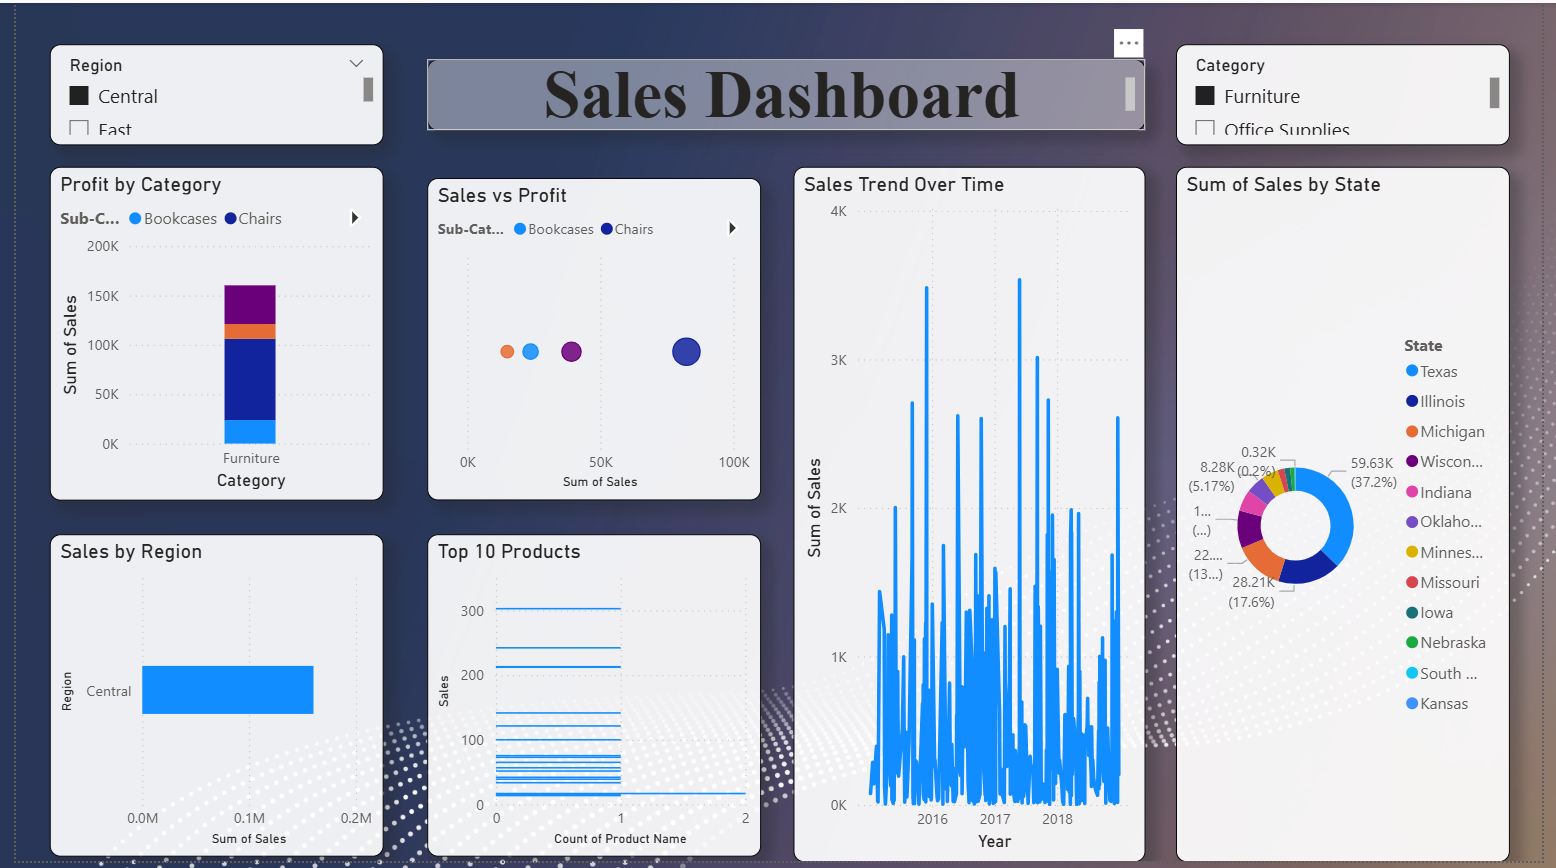

The page's visual inventory and layout, read from the dashboard file:
{"tool":"powerbi","page":{"name":"Page 1","canvas":[1280,720],"ordinal":0},"visuals":[{"type":"barChart","title":"Sales by Region","fields":{"Y":["Sum(train.Sales)"],"Category":["train.Region"]},"box":[28.8,446,279.9,270.3],"z":0},{"type":"columnChart","title":" Profit by Category","fields":{"Series":["train.Sub-Category"],"Category":["train.Category"],"Y":["Sum(train.Sales)"]},"box":[28.8,137.2,279.9,279.9],"z":1000},{"type":"lineChart","title":" Sales Trend Over Time","fields":{"Y":["Sum(train.Sales)"],"Category":["train.Order Date.Variation.Date Hierarchy.Year","train.Order Date.Variation.Date Hierarchy.Quarter","train.Order Date.Variation.Date Hierarchy.Month","train.Order Date.Variation.Date Hierarchy.Day"]},"box":[651.8,137.2,295,583.2],"z":2000},{"type":"barChart","title":"Top 10 Products","fields":{"Y":["CountNonNull(train.Product Name)"],"Category":["train.Sales"]},"box":[344.4,446,279.9,270.3],"z":3000},{"type":"scatterChart","title":"Sales vs Profit","fields":{"X":["Sum(train.Sales)"],"Size":["Sum(train.Sales)"],"Series":["train.Sub-Category"]},"box":[344.4,146.8,279.9,270.3],"z":4000},{"type":"donutChart","fields":{"Category":["train.State"],"Y":["Sum(train.Sales)"]},"box":[972.9,137.2,279.9,583.2],"z":5000},{"type":"slicer","fields":{"Values":["train.Region"]},"box":[28.8,34.3,279.9,85.1],"z":6000},{"type":"slicer","fields":{"Values":["train.Category"]},"box":[972.9,34.3,279.9,85.1],"z":7000},{"type":"textbox","box":[344.4,46.7,602.4,60.4],"z":8000}]}

Visuals, with their boxes in screenshot pixels (x1, y1, x2, y2), scaled from the page's 1280x720 canvas onto the 1556x868 screenshot:
"Sales by Region" barChart: (x1=35, y1=538, x2=375, y2=864)
" Profit by Category" columnChart: (x1=35, y1=165, x2=375, y2=503)
" Sales Trend Over Time" lineChart: (x1=792, y1=165, x2=1151, y2=867)
"Top 10 Products" barChart: (x1=419, y1=538, x2=759, y2=864)
"Sales vs Profit" scatterChart: (x1=419, y1=177, x2=759, y2=503)
donutChart - train.State x Sum(train.Sales): (x1=1183, y1=165, x2=1523, y2=867)
slicer - train.Region: (x1=35, y1=41, x2=375, y2=144)
slicer - train.Category: (x1=1183, y1=41, x2=1523, y2=144)
textbox: (x1=419, y1=56, x2=1151, y2=129)
